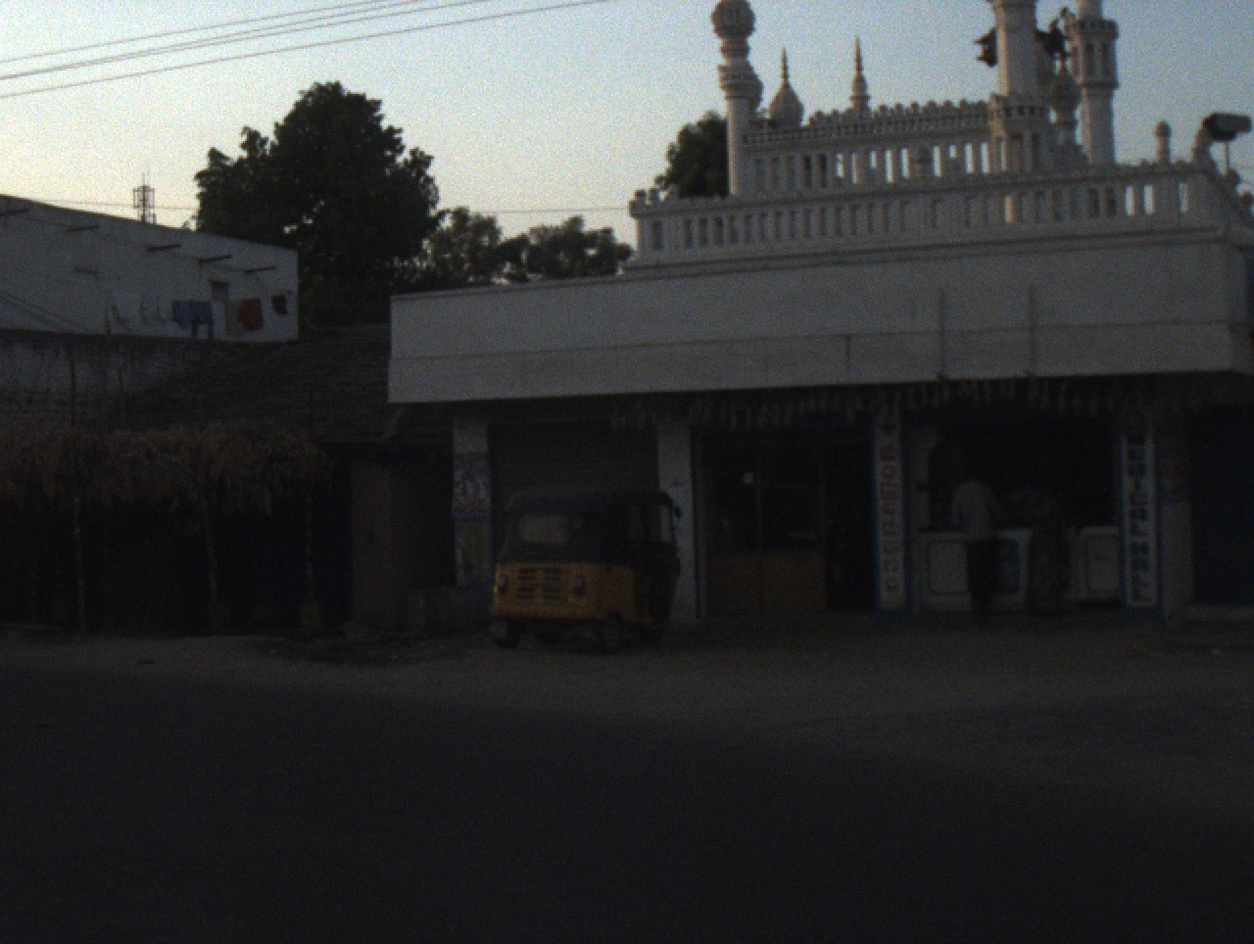autorickshaw: (487, 468, 691, 658)
person: (938, 468, 1007, 624), (1023, 459, 1064, 611)
